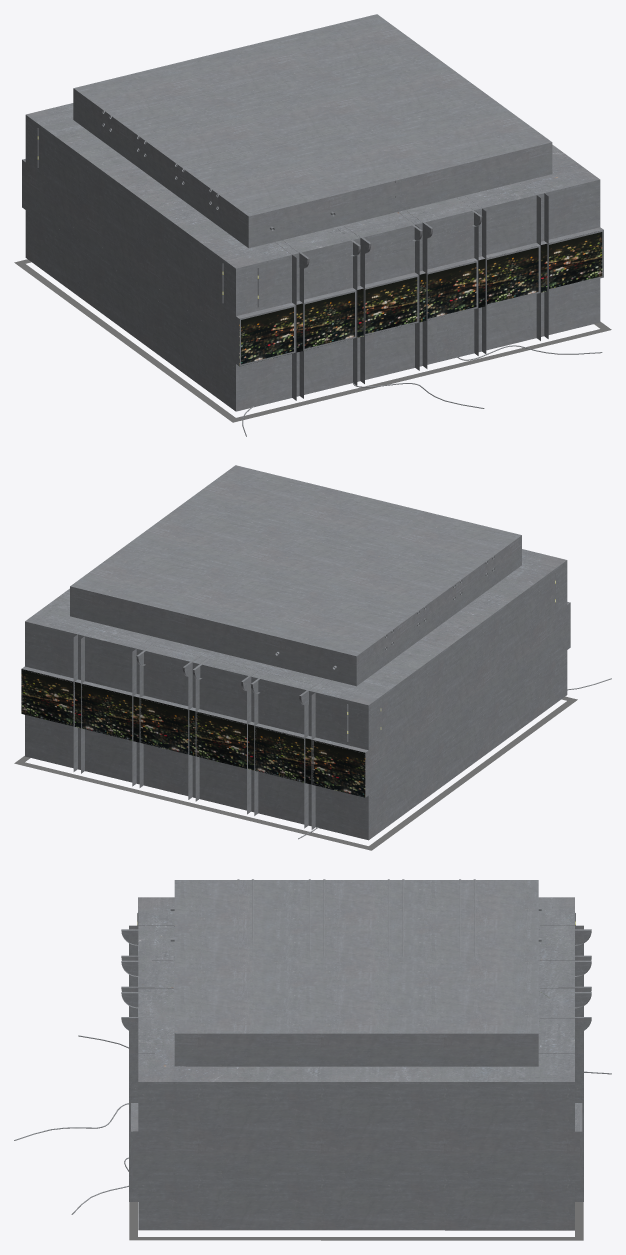
Rendered from studio02-export.fbx.
3 renders of one model, top to bottom at view 1: azimuth 30°, elevation 25°; view 2: azimuth 150°, elevation 25°; view 3: azimuth 270°, elevation 25°, orthographic. The views are drawn at different scales.
Visible parts, largest first — view 1: Walls, Details; view 2: Walls, Details; view 3: Walls, Details.
Boxes of the visible parts, box(x1,y1,x2,y2) form: Walls: box(14, 14, 611, 422); Details: box(22, 159, 603, 436); Walls: box(14, 465, 577, 850); Details: box(21, 602, 611, 839); Walls: box(121, 879, 591, 1240); Details: box(14, 1035, 611, 1214).
Size of the model in its own units: 1285 by 570 by 1643.
